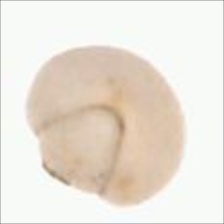L5: (33, 101, 128, 201), (143, 58, 182, 116)
L6: (22, 43, 187, 209)
